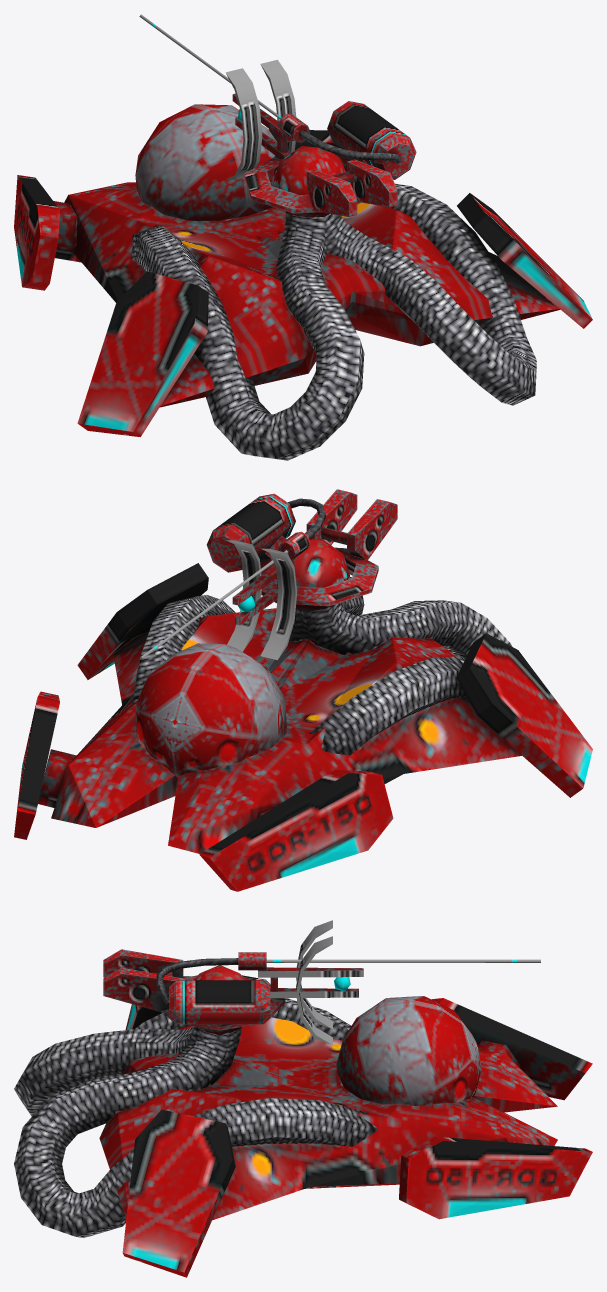
Rendered from cottus_elec.DAE.
The picture shows the model from 3 angles, top to bottom: view 1: azimuth 30°, elevation 25°; view 2: azimuth 150°, elevation 25°; view 3: azimuth 270°, elevation 25°; orthographic projection. The views are drawn at different scales.
Visible parts, largest first — view 1: GeoSphere03, Tube04; view 2: GeoSphere03, Tube04; view 3: GeoSphere03, Tube04.
Boxes of the visible parts, box(x1,y1,x2,y2) form: GeoSphere03: box(14, 104, 592, 460); Tube04: box(139, 14, 416, 216); GeoSphere03: box(14, 538, 592, 891); Tube04: box(139, 489, 397, 660); GeoSphere03: box(14, 965, 592, 1277); Tube04: box(103, 920, 540, 1045).
Bounding box in the file's own units: 75.6 × 79.55 × 37.36.
2 materials, 2 textured.
